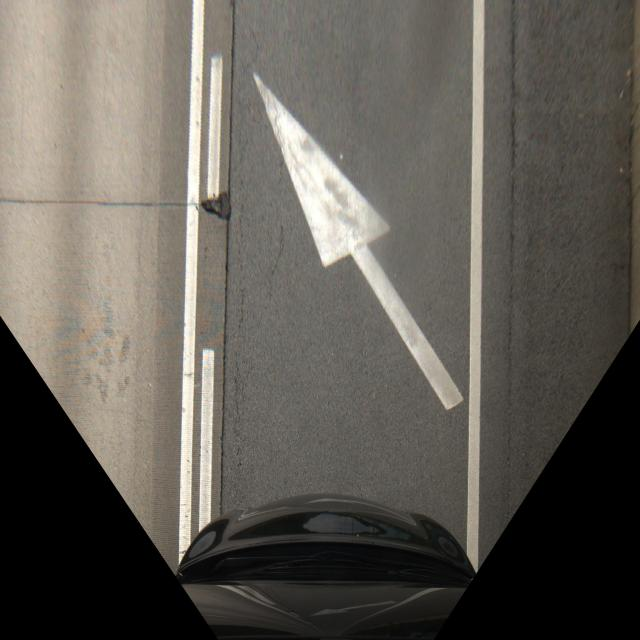chang_lane_left: (181, 50, 491, 440)
